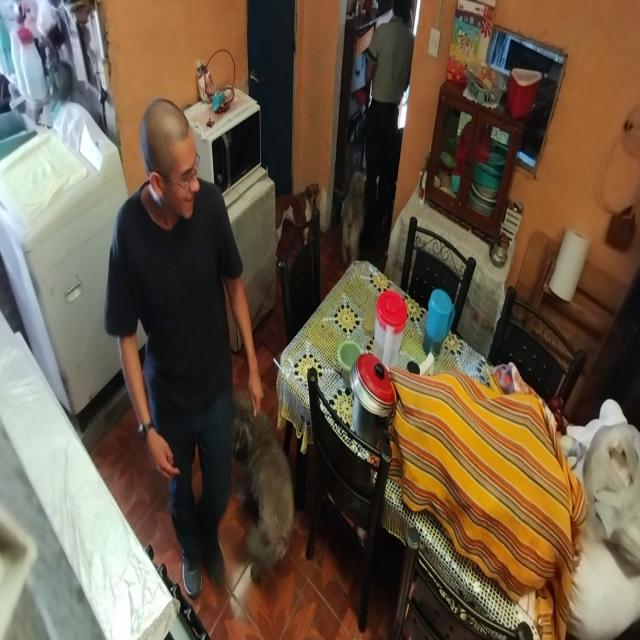adult: (102, 94, 265, 612)
